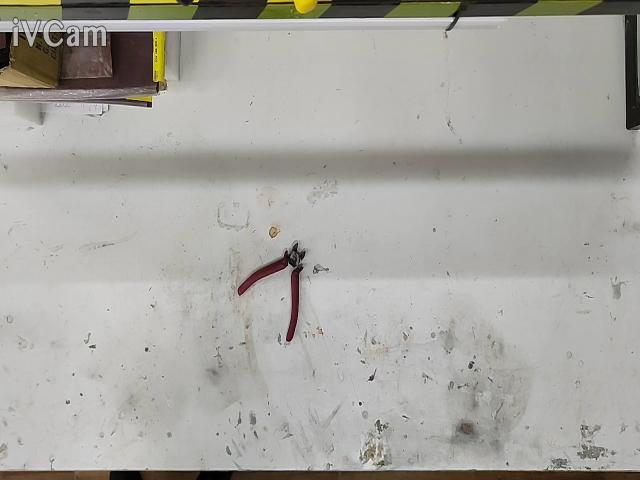Cutting pliers: (238, 242, 306, 341)
